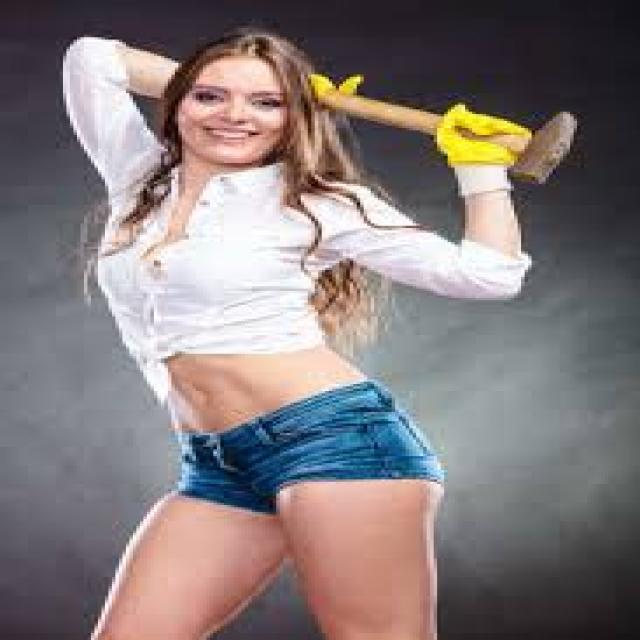hammer: (285, 60, 600, 191)
